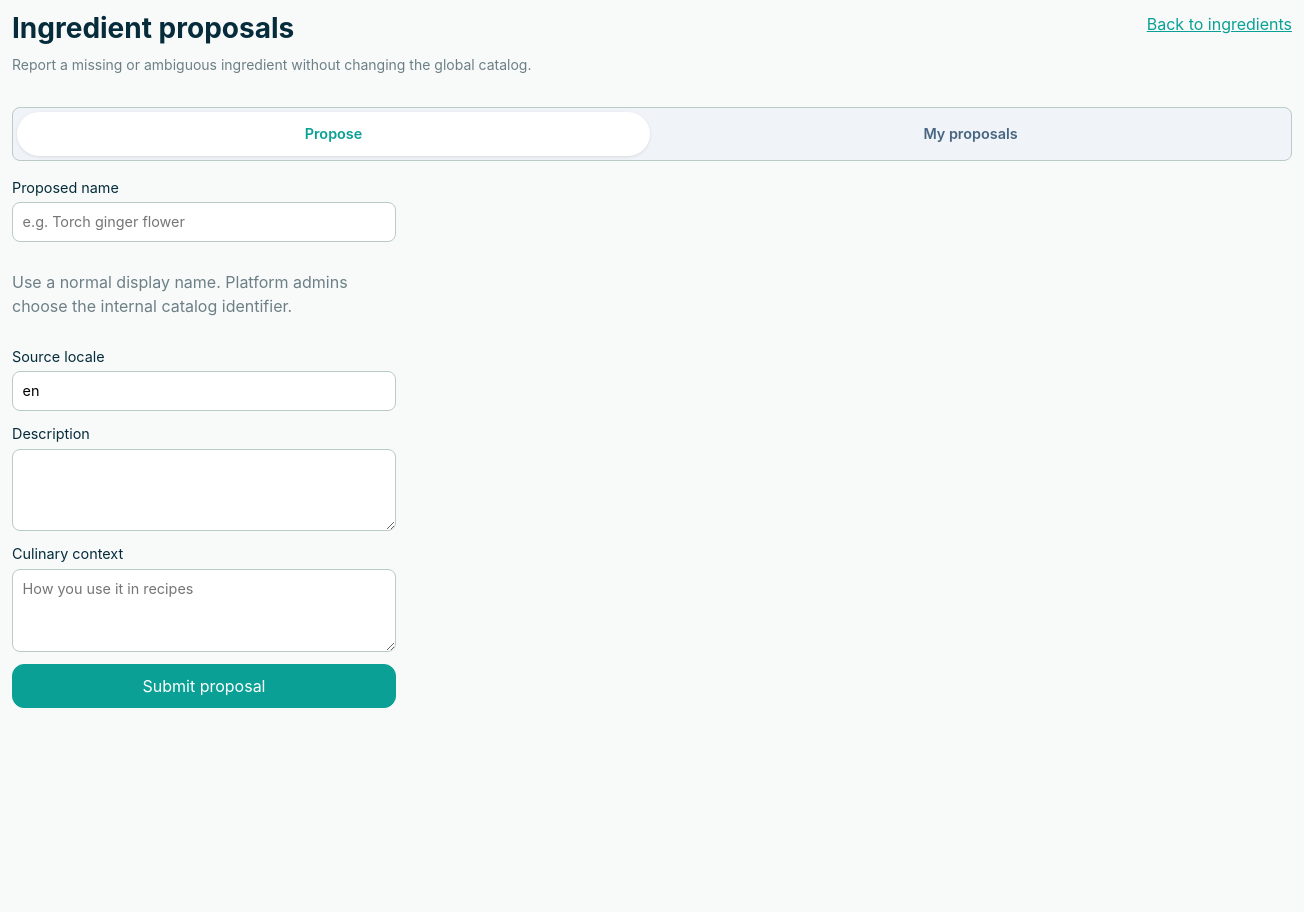
Test case: MyIngredientProposalsPage › submits a member proposal and shows own proposals list
Expected: the heading "Ingredient proposals" is shown, 12,11 -> 294,45
Type "yuzu zest" into the field labelled "Proposed name" at (204, 222), box 12,202 -> 396,242
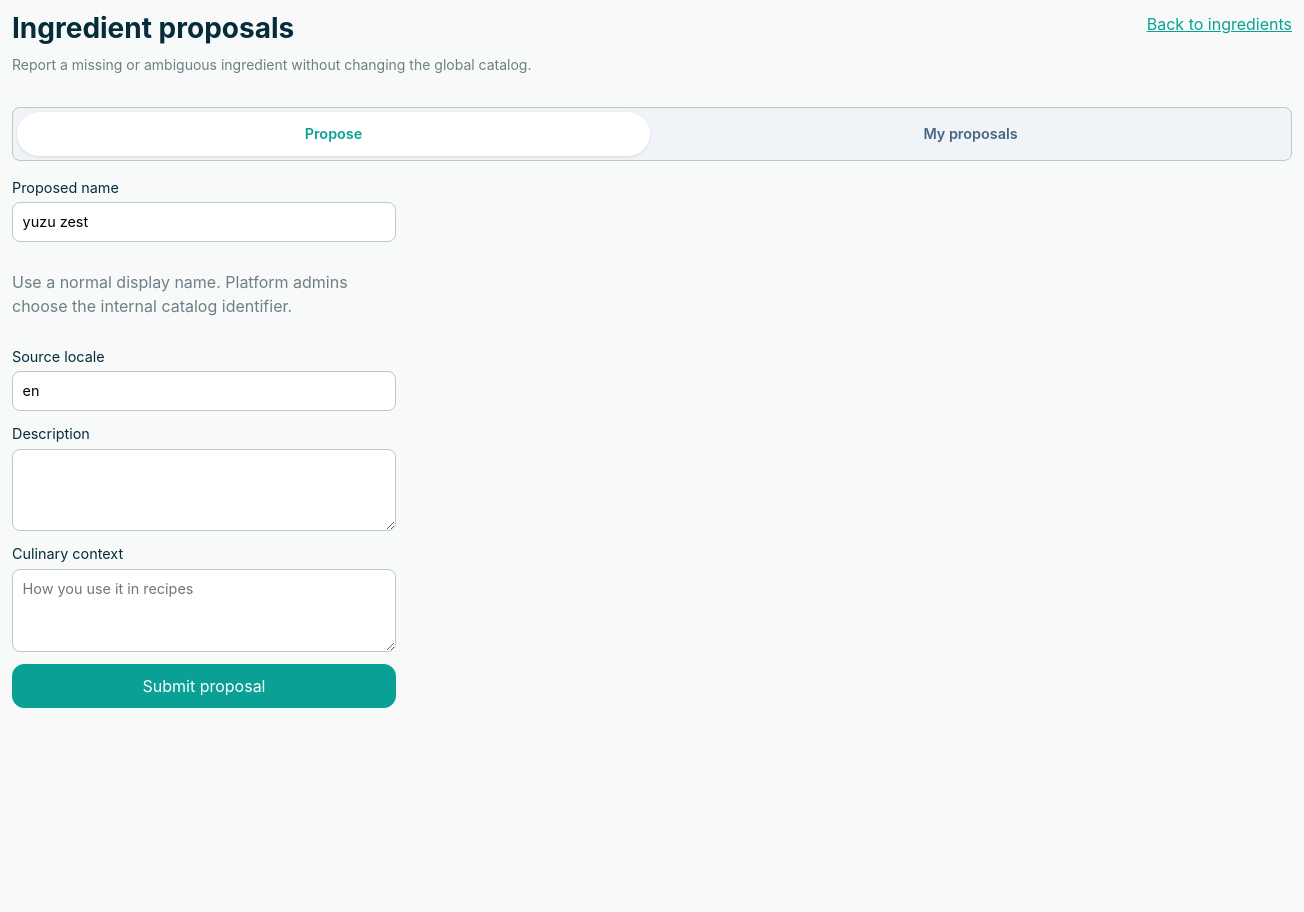
Type "Japanese pastry" into the text box labelled "Culinary context" at (204, 610), box 12,569 -> 396,652
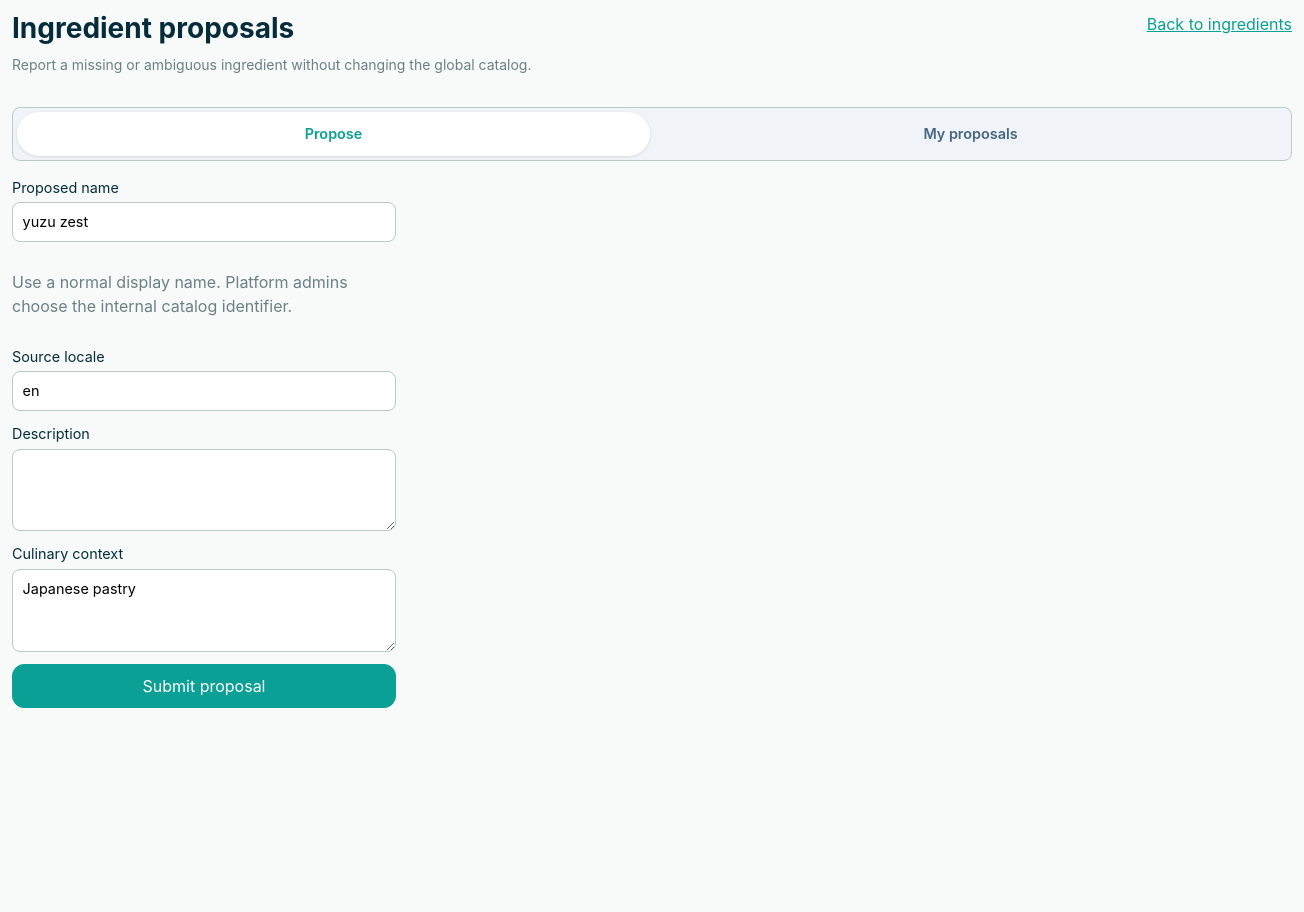
Click the button "Submit proposal" at (204, 686), box 12,664 -> 396,708
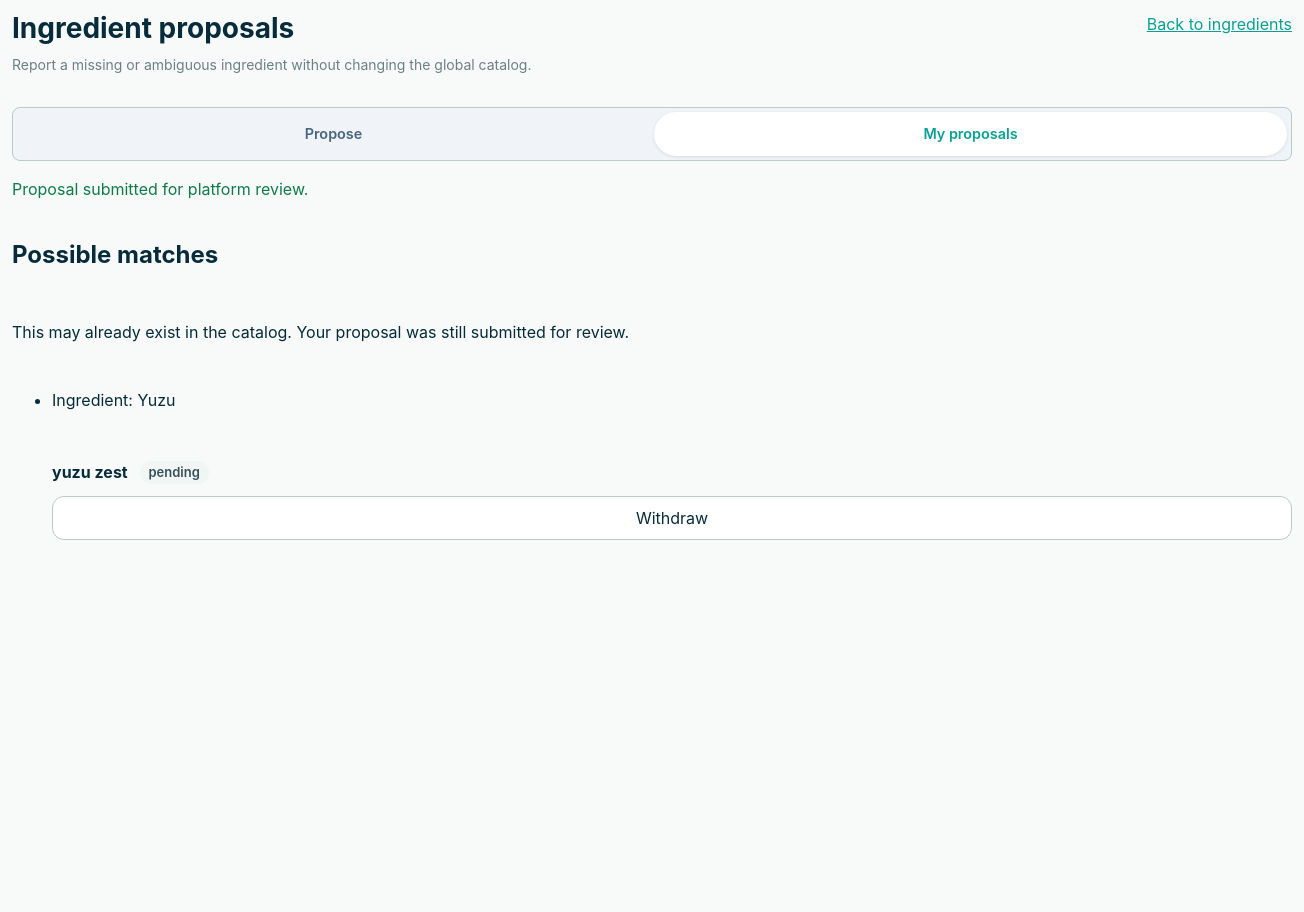
Result: the text "Proposal submitted for platform review." is shown at 12,179 -> 308,199
Result: the text "yuzu zest" is shown at 52,460 -> 128,484
Result: the list item "Ingredient: Yuzu" is shown at 52,390 -> 175,410
